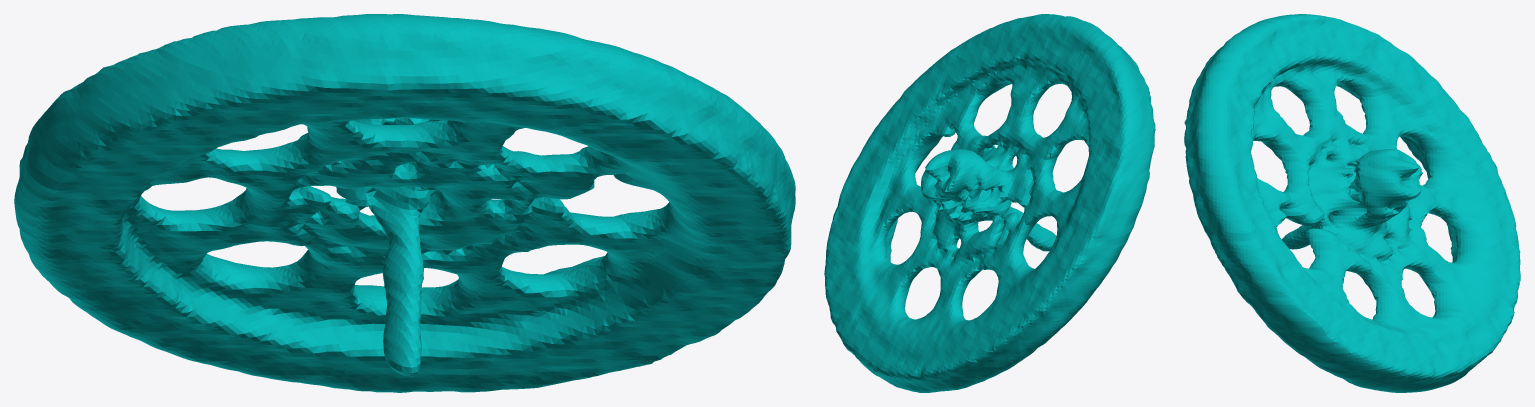
3 views of the same model, side by side, from view 1: azimuth 30°, elevation 25°; view 2: azimuth 150°, elevation 25°; view 3: azimuth 270°, elevation 25° (orthographic). The views are drawn at different scales.
Size of the model in its own units: 0.9448 by 0.7987 by 0.8267.
